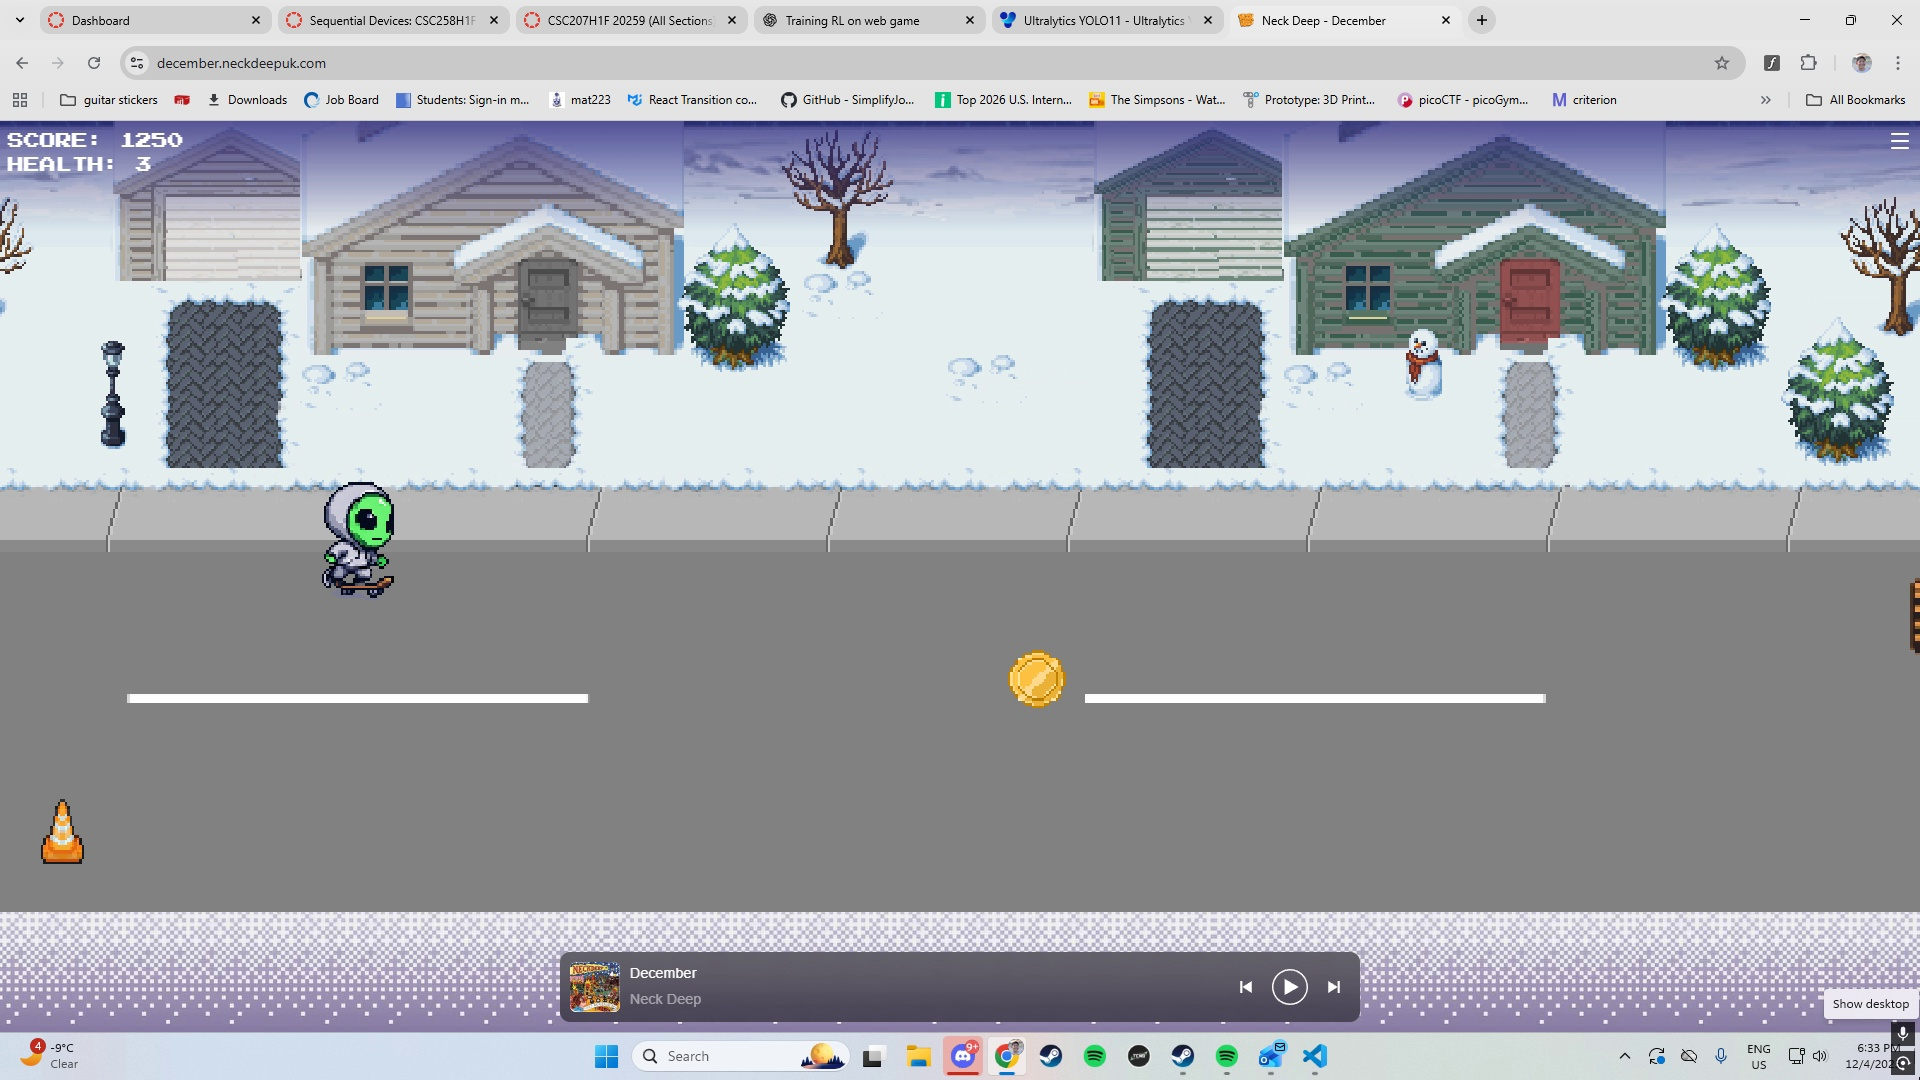Coin: (1002, 647, 1073, 712)
Cone: (33, 794, 92, 869)
Player: (313, 474, 408, 600)
